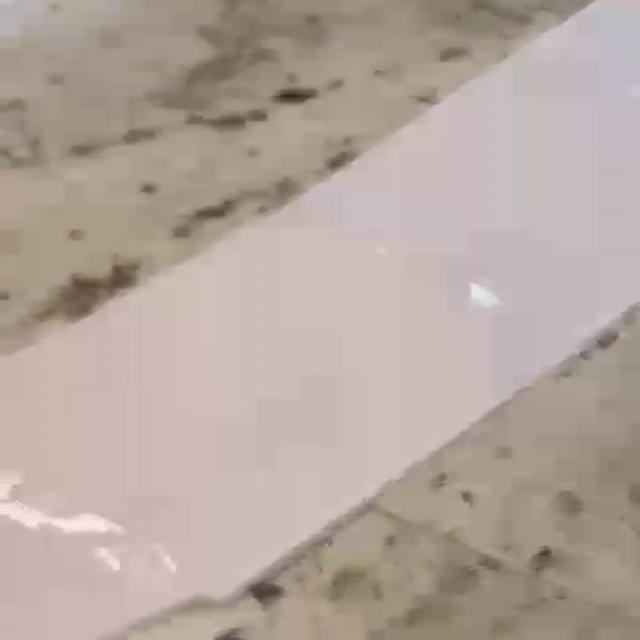road: (0, 0, 640, 640)
